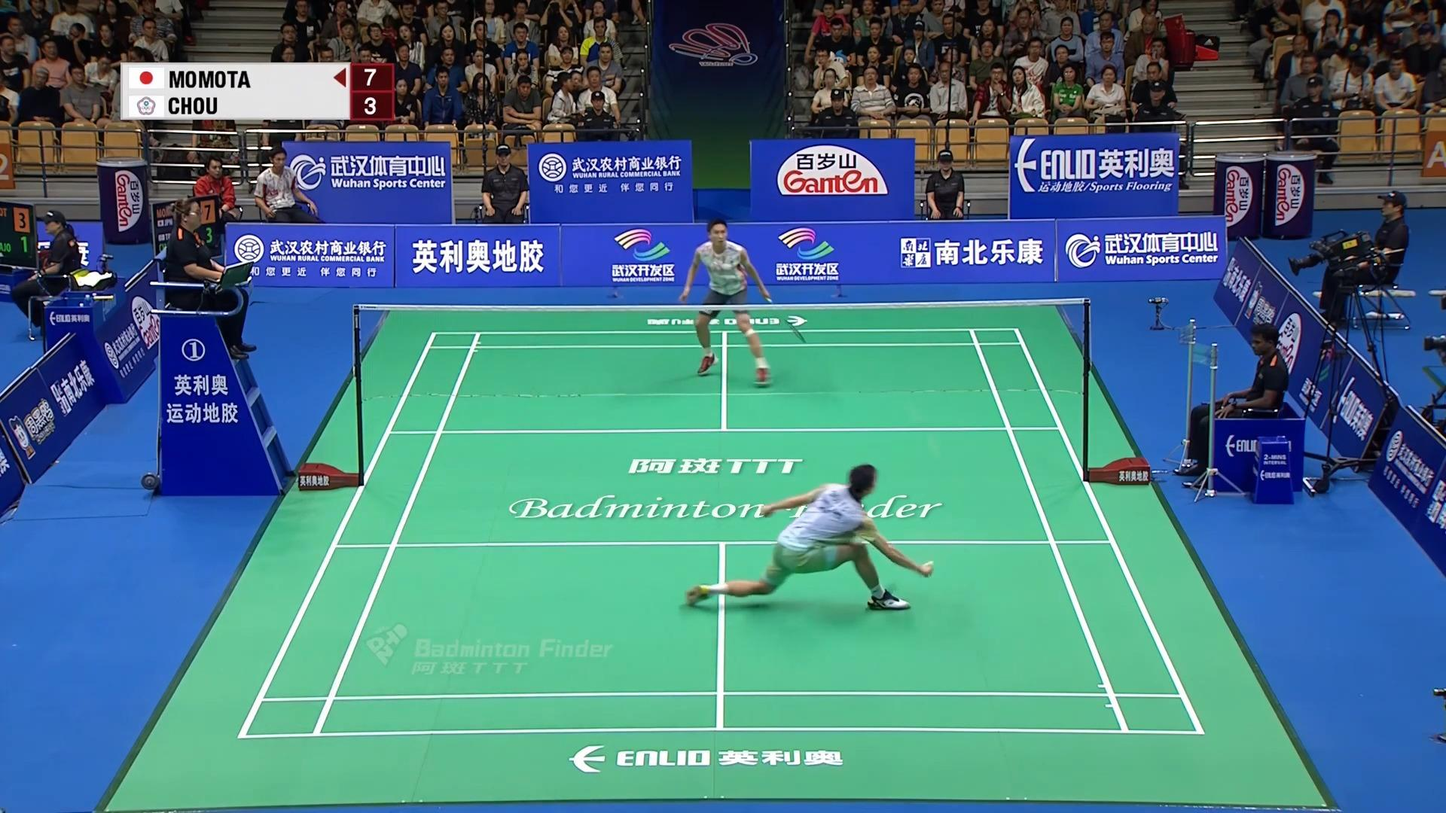player: (684, 465, 934, 614), (679, 218, 773, 385)
